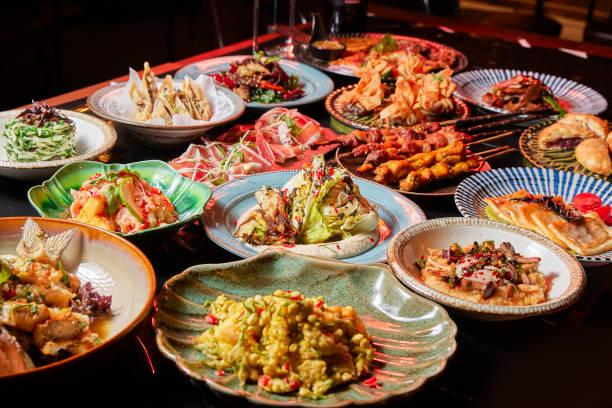Braised Crucian Carp: (153, 249, 450, 406), (2, 217, 158, 381), (202, 169, 418, 264), (398, 221, 575, 312), (455, 166, 611, 263), (29, 158, 210, 238), (334, 128, 489, 198), (450, 66, 606, 118), (182, 56, 332, 105), (325, 82, 472, 132), (1, 107, 112, 168)
